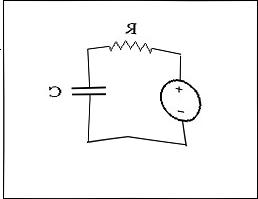Battery: (152, 72, 210, 127)
